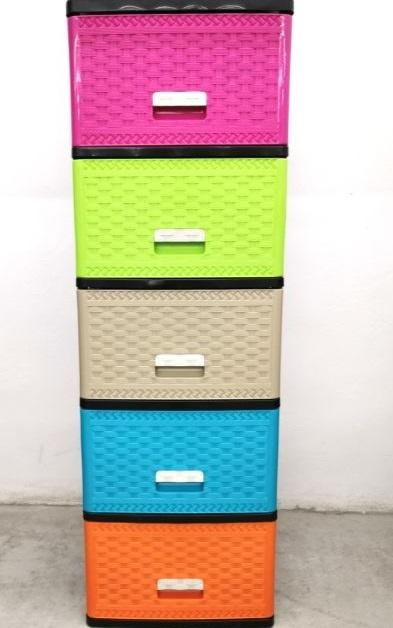cabinet_door: (78, 28, 280, 140), (80, 168, 278, 279), (90, 409, 272, 516), (89, 525, 273, 625), (85, 303, 272, 397)
handle: (149, 81, 210, 117), (150, 347, 209, 381), (153, 570, 208, 606), (154, 465, 208, 496), (150, 227, 209, 255)
